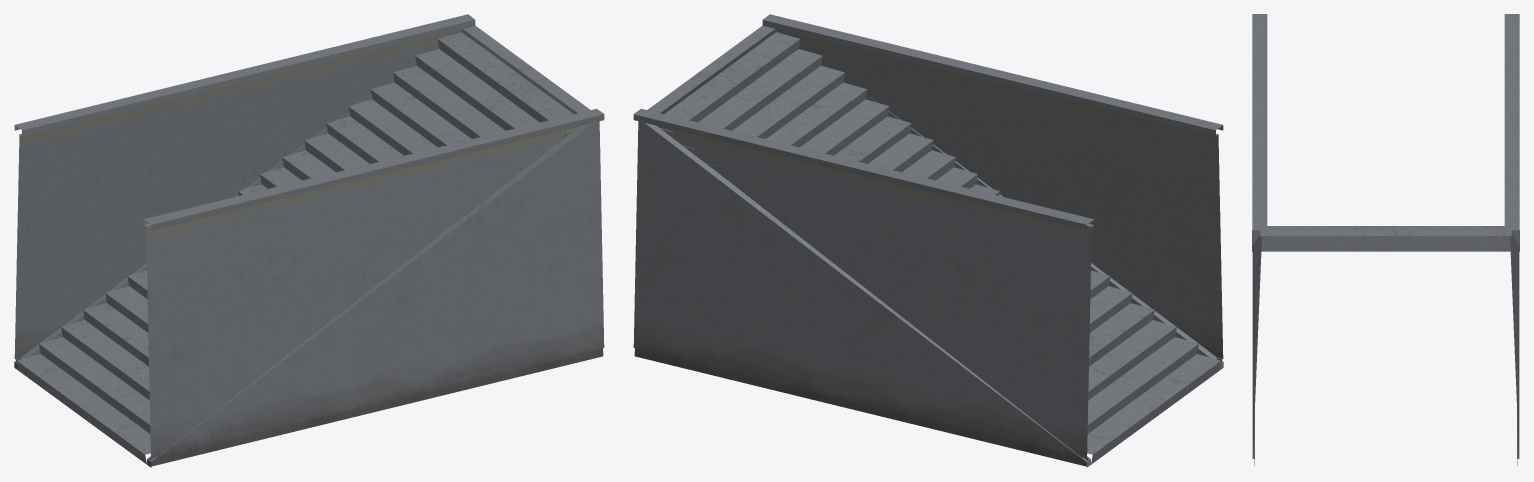
Rendered from spaceStation_wall_stairs.fbx.
3 views of the same model, side by side, from view 1: azimuth 30°, elevation 25°; view 2: azimuth 150°, elevation 25°; view 3: azimuth 270°, elevation 25° (orthographic). The views are drawn at different scales.
Visible parts, largest first — view 1: walls, floor; view 2: walls, floor; view 3: walls, floor.
Boxes of the visible parts, x1=… form: walls: x1=14, y1=14, x2=604, y2=466; floor: x1=14, y1=14, x2=604, y2=467; walls: x1=633, y1=14, x2=1223, y2=466; floor: x1=633, y1=14, x2=1223, y2=467; walls: x1=1252, y1=14, x2=1519, y2=465; floor: x1=1252, y1=226, x2=1519, y2=251.
Size of the model in its own units: 8.03 by 4.1 by 4.19.
2 materials, 2 textured.
